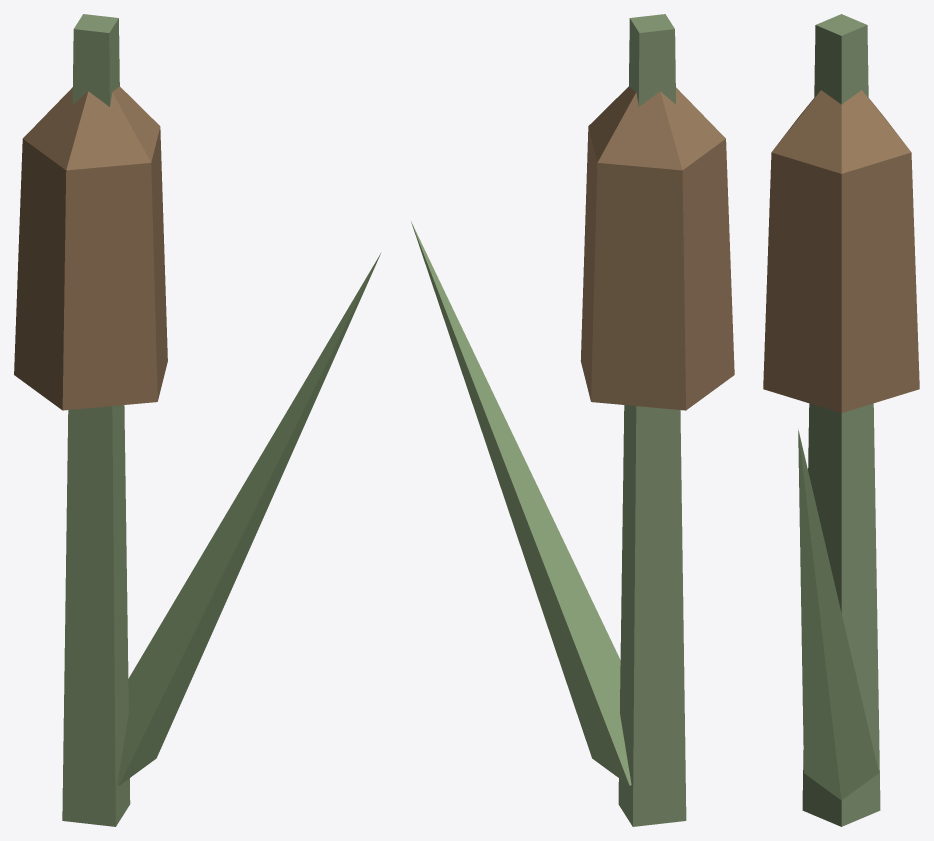
File: prop_reed.glb
3 renders of one model, left to right at view 1: azimuth 30°, elevation 25°; view 2: azimuth 150°, elevation 25°; view 3: azimuth 270°, elevation 25°, orthographic.
Visible parts, largest first — view 1: body; view 2: body; view 3: body.
Part boxes in pixels (bbox=[...]): body: bbox=[14, 14, 381, 826]; body: bbox=[411, 14, 734, 826]; body: bbox=[763, 14, 919, 826].
Size of the model in its own units: 0.4269 by 1 by 0.1807.
